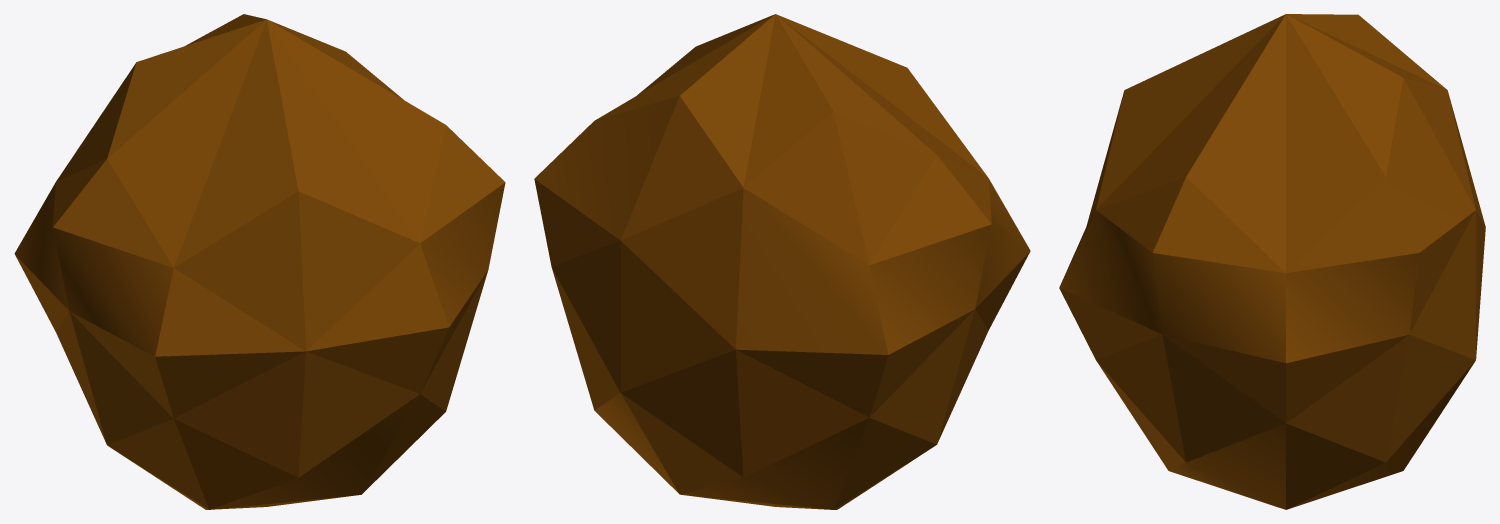
The model's file is DyingBush_v1.fbx.
3 views of the same model, side by side, from view 1: azimuth 30°, elevation 25°; view 2: azimuth 150°, elevation 25°; view 3: azimuth 270°, elevation 25° (orthographic).
Parts seen in each view (by area): view 1: pSphere11; view 2: pSphere11; view 3: pSphere11.
Part boxes in pixels (left/top/right/bottom): pSphere11: left=14, top=14, right=505, bottom=509; pSphere11: left=534, top=14, right=1030, bottom=509; pSphere11: left=1059, top=14, right=1485, bottom=509.
Bounding box in the file's own units: 0.0701 × 0.0747 × 0.0595.
